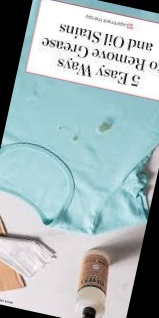oil: (96, 119, 119, 143), (52, 113, 71, 135), (71, 133, 82, 147)
